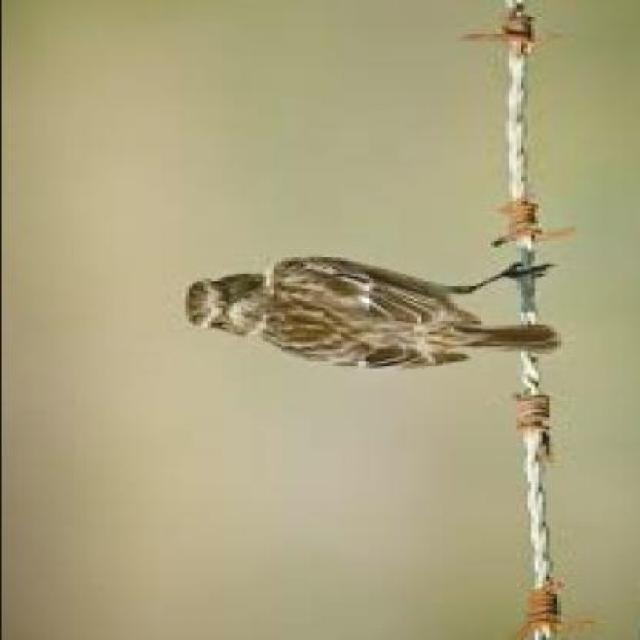Bird: (146, 242, 563, 422)
